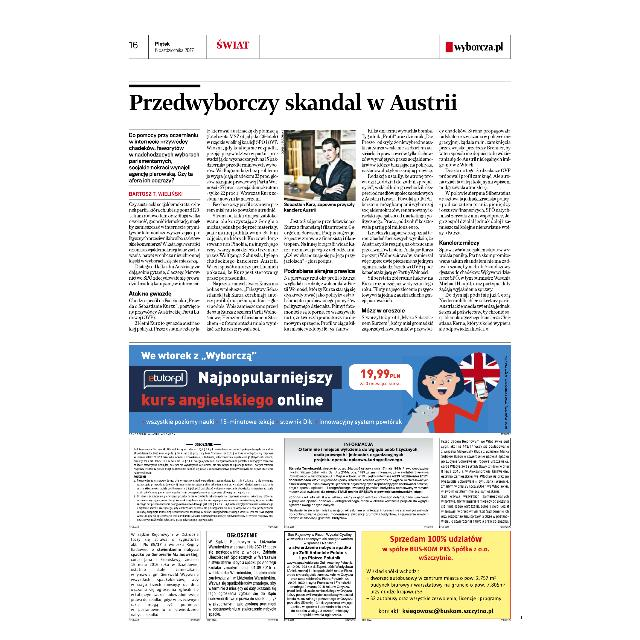article: (128, 84, 514, 334)
